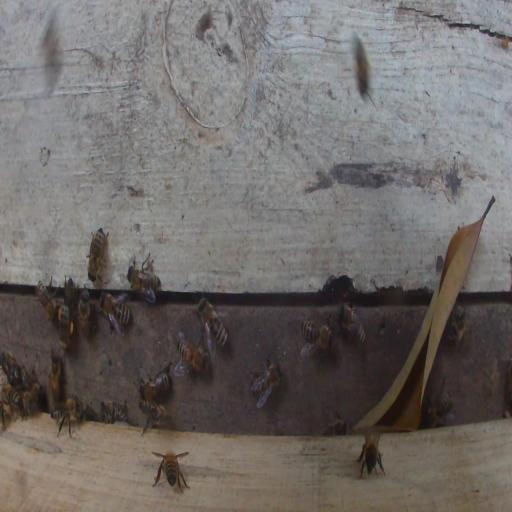nonpollenbee: (249, 352, 284, 410), (152, 449, 189, 494), (197, 298, 228, 348), (99, 291, 132, 335), (300, 317, 333, 357), (139, 363, 173, 401), (354, 33, 373, 101), (50, 396, 80, 439), (87, 226, 108, 284), (177, 337, 210, 373), (338, 304, 366, 346), (424, 390, 454, 427), (77, 287, 97, 337), (128, 266, 160, 295), (449, 302, 469, 347), (358, 439, 383, 474), (1, 384, 25, 419), (1, 350, 23, 385), (38, 281, 56, 321), (49, 353, 62, 402), (22, 385, 42, 416), (99, 400, 125, 423), (140, 401, 166, 423), (65, 274, 75, 306), (22, 365, 35, 389), (174, 359, 191, 376)
pollenbee: (58, 304, 74, 348)
